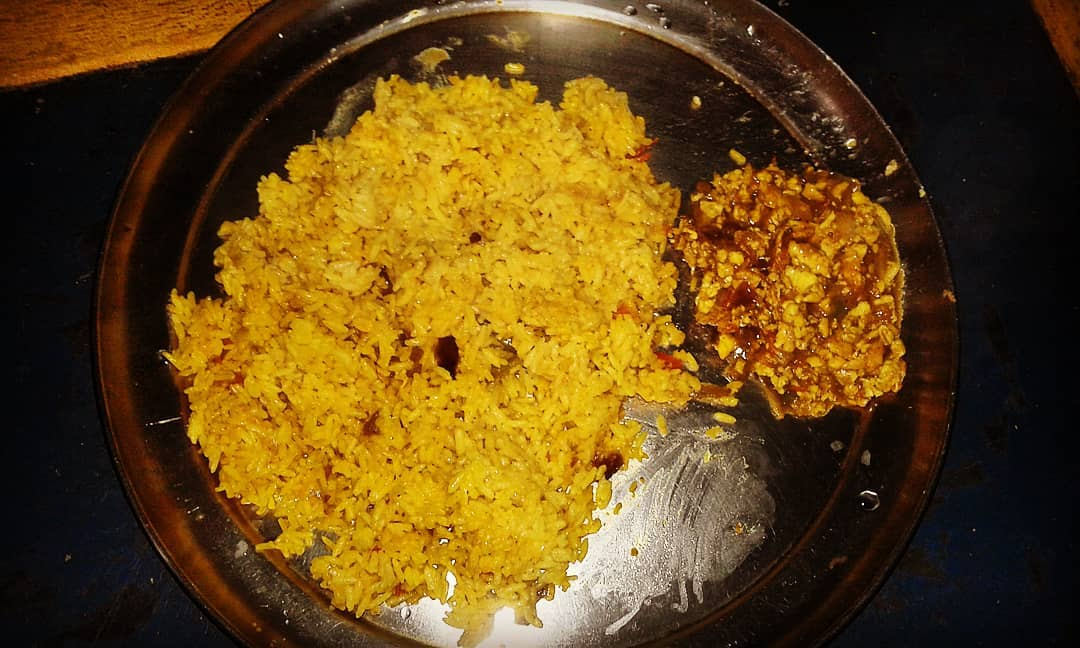khichuri: (180, 57, 691, 642)
